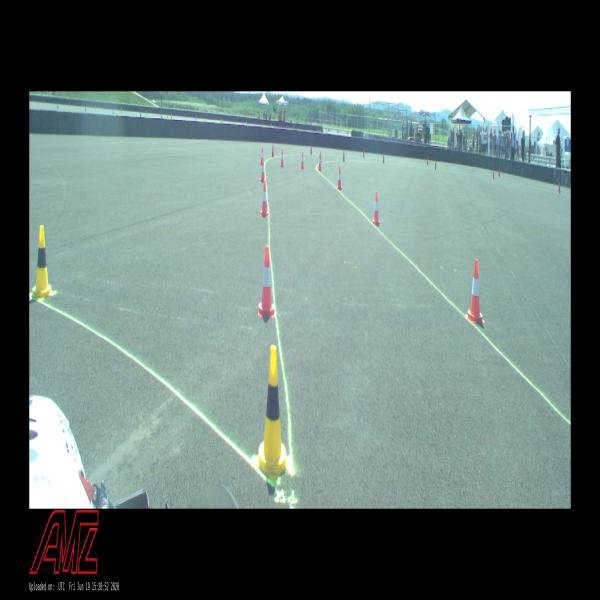orange_cone: (258, 245, 275, 318), (466, 260, 485, 324), (372, 191, 381, 226), (260, 180, 268, 216), (337, 167, 342, 189), (260, 159, 265, 181), (280, 149, 284, 167), (318, 154, 322, 171), (300, 152, 304, 169), (260, 147, 263, 165)
yellow_cone: (254, 345, 291, 481), (30, 226, 54, 300)
